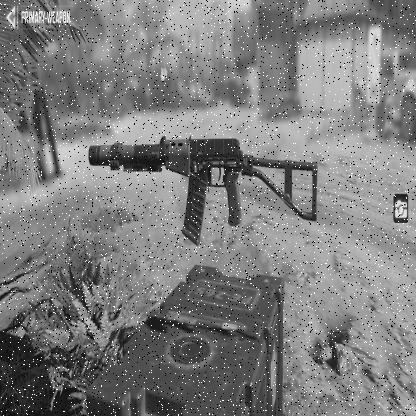rifle: (78, 126, 320, 238)
